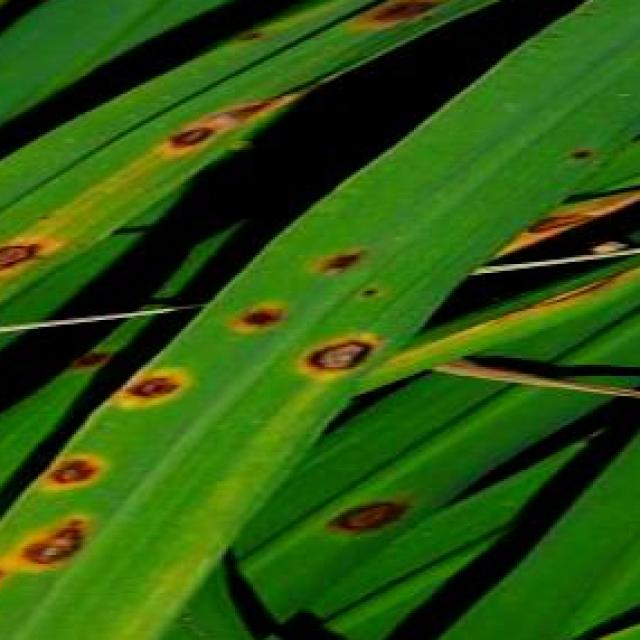Brown_Spot: (15, 500, 106, 598), (29, 439, 119, 517), (316, 490, 430, 550), (103, 360, 206, 425), (289, 325, 394, 387), (0, 226, 76, 296), (217, 293, 307, 347), (347, 0, 461, 42), (158, 116, 230, 161), (314, 240, 374, 288), (0, 534, 18, 622), (562, 143, 604, 170), (356, 284, 392, 311), (233, 27, 273, 51)
